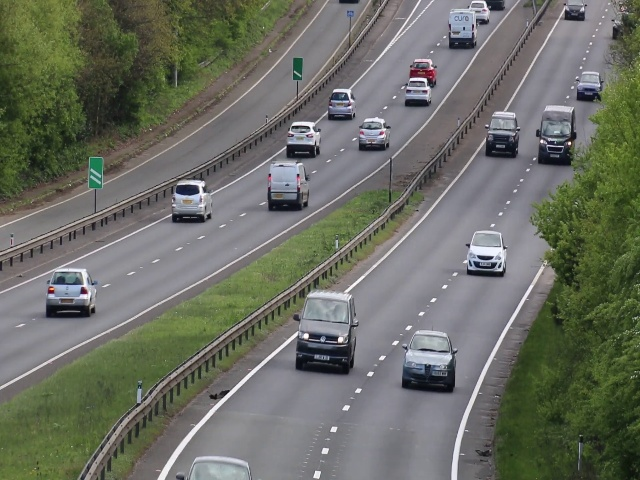car: (288, 293, 359, 373), (402, 328, 455, 394), (46, 267, 97, 318), (464, 228, 509, 277), (266, 162, 311, 211), (537, 112, 574, 169), (171, 179, 212, 223), (486, 110, 518, 158), (284, 119, 321, 158), (356, 116, 393, 150), (446, 9, 478, 47), (325, 86, 356, 121), (575, 69, 602, 104), (404, 77, 432, 108), (407, 59, 437, 74)
